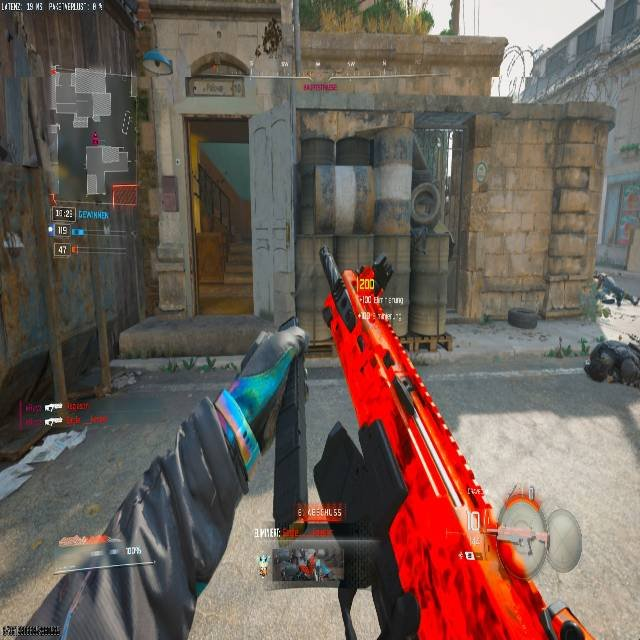head: (584, 356, 611, 382), (593, 271, 605, 284)
